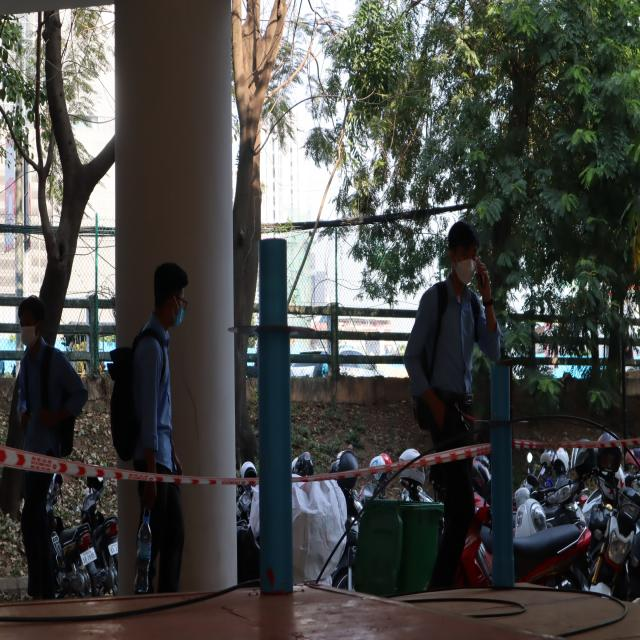pole: (231, 236, 322, 417), (461, 360, 528, 460)
